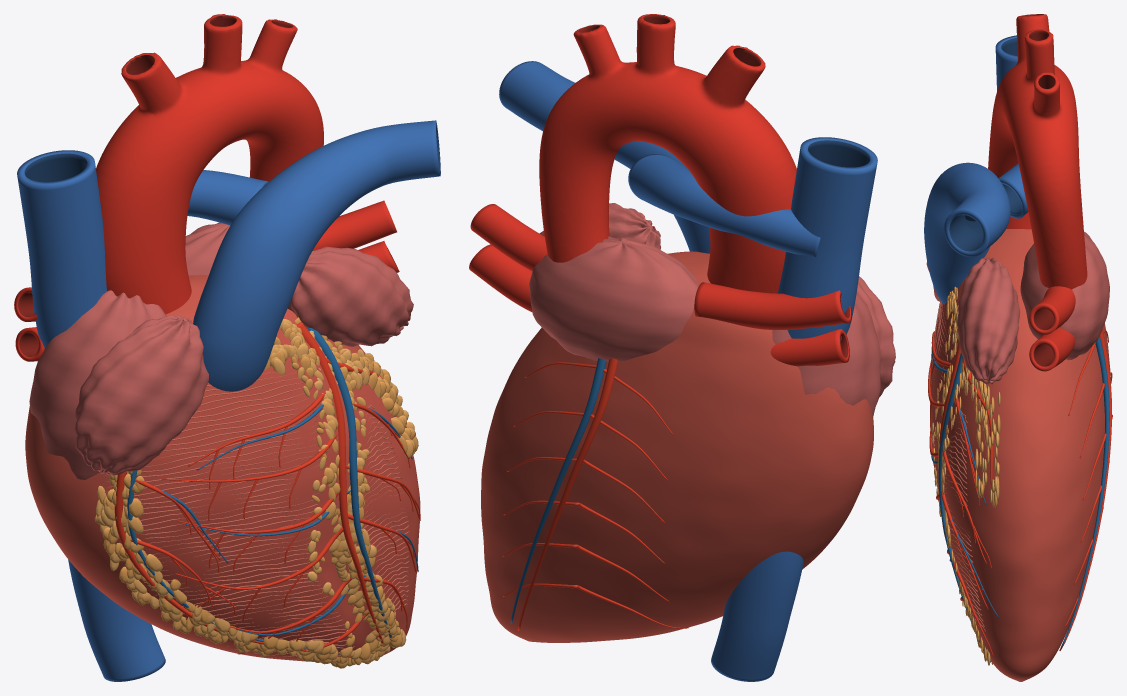
The picture shows the model from 3 angles, left to right: view 1: azimuth 30°, elevation 25°; view 2: azimuth 150°, elevation 25°; view 3: azimuth 270°, elevation 25°; orthographic projection. The views are drawn at different scales.
Parts seen in each view (by area): view 1: Ventricular myocardium | continuous sculpt.001, Aorta | ascending, arch and descending.001, Pulmonary trunk and left pulmonary artery.001, Right auricle | scalloped atrial appendage.001, Superior vena cava.001, Left auricle | scalloped atrial appendage.001, Right atrium | anatomical right / image left.001, Adipose lobules | tone 1.001, Adipose lobules | tone 3.001, Adipose lobules | tone 2.001, Inferior vena cava.001, Right pulmonary artery | posterior branch.001 (+8 smaller); view 2: Ventricular myocardium | continuous sculpt.001, Aorta | ascending, arch and descending.001, Left atrium | posterior.001, Superior vena cava.001, Inferior vena cava.001, Right pulmonary artery | posterior branch.001, Right superior pulmonary vein.001, Pulmonary trunk and left pulmonary artery.001, Right atrium | anatomical right / image left.001, Left superior pulmonary vein.001, Left inferior pulmonary vein.001, Right inferior pulmonary vein.001 (+4 smaller); view 3: Ventricular myocardium | continuous sculpt.001, Aorta | ascending, arch and descending.001, Pulmonary trunk and left pulmonary artery.001, Left auricle | scalloped atrial appendage.001, Left atrium | posterior.001, Adipose lobules | tone 1.001, Adipose lobules | tone 3.001, Adipose lobules | tone 2.001, Left superior pulmonary vein.001, Left inferior pulmonary vein.001, Middle cardiac vein.001, Right pulmonary artery | posterior branch.001 (+7 smaller).
Part boxes in pixels (<box>): Ventricular myocardium | continuous sculpt.001: <box>25,275,420,661</box>; Aorta | ascending, arch and descending.001: <box>96,14,323,314</box>; Pulmonary trunk and left pulmonary artery.001: <box>193,120,440,391</box>; Right auricle | scalloped atrial appendage.001: <box>74,315,208,475</box>; Superior vena cava.001: <box>17,150,106,348</box>; Left auricle | scalloped atrial appendage.001: <box>287,246,413,346</box>; Right atrium | anatomical right / image left.001: <box>29,290,166,479</box>; Adipose lobules | tone 1.001: <box>100,317,418,668</box>; Adipose lobules | tone 3.001: <box>96,319,415,667</box>; Adipose lobules | tone 2.001: <box>94,322,415,664</box>; Inferior vena cava.001: <box>68,559,165,681</box>; Right pulmonary artery | posterior branch.001: <box>187,170,268,225</box>; Ventricular myocardium | continuous sculpt.001: <box>481,251,873,642</box>; Aorta | ascending, arch and descending.001: <box>539,14,796,293</box>; Left atrium | posterior.001: <box>529,236,698,361</box>; Superior vena cava.001: <box>777,137,877,341</box>; Inferior vena cava.001: <box>711,551,803,681</box>; Right pulmonary artery | posterior branch.001: <box>628,154,820,256</box>; Right superior pulmonary vein.001: <box>694,282,851,329</box>; Pulmonary trunk and left pulmonary artery.001: <box>499,61,710,253</box>; Right atrium | anatomical right / image left.001: <box>772,292,880,417</box>; Left superior pulmonary vein.001: <box>470,204,547,271</box>; Left inferior pulmonary vein.001: <box>469,244,532,312</box>; Right inferior pulmonary vein.001: <box>770,329,849,366</box>; Ventricular myocardium | continuous sculpt.001: <box>930,229,1110,681</box>; Aorta | ascending, arch and descending.001: <box>988,14,1087,289</box>; Pulmonary trunk and left pulmonary artery.001: <box>924,162,1010,304</box>; Left auricle | scalloped atrial appendage.001: <box>957,257,1020,384</box>; Left atrium | posterior.001: <box>1020,231,1109,360</box>; Adipose lobules | tone 1.001: <box>935,286,1000,661</box>; Adipose lobules | tone 3.001: <box>932,290,999,665</box>; Adipose lobules | tone 2.001: <box>932,291,1000,664</box>; Left superior pulmonary vein.001: <box>1029,286,1075,334</box>; Left inferior pulmonary vein.001: <box>1029,327,1075,371</box>; Middle cardiac vein.001: <box>1060,336,1109,648</box>; Right pulmonary artery | posterior branch.001: <box>998,163,1028,218</box>.
Bounding box in the file's own units: 4.02 × 6.43 × 1.88.
